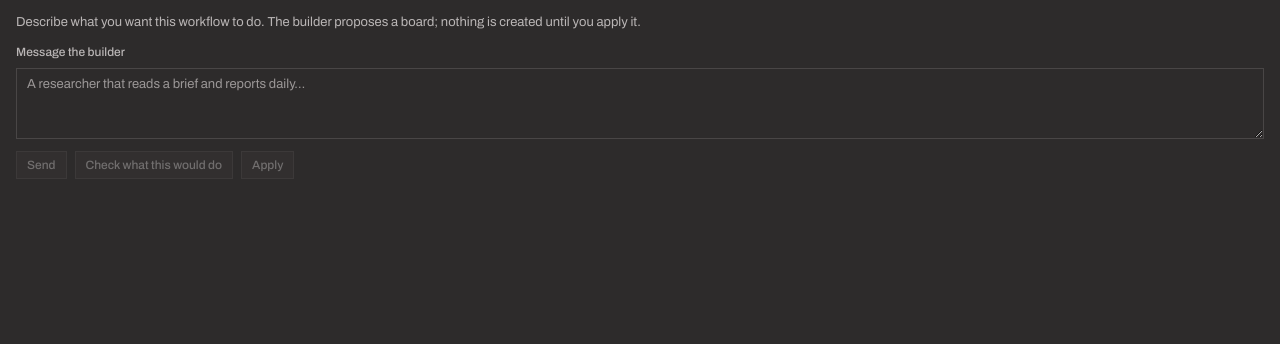
Test: BuilderPanel — plan, confirm, then apply › keeps the raw JSON out of the transcript
Type "a researcher" into the text box with test id "builder-input" at (640, 104), box [16,68,1264,139]
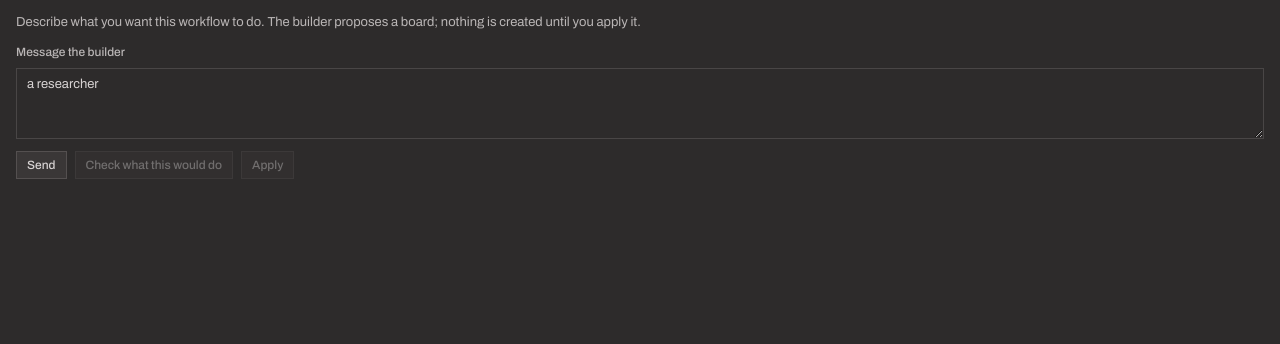
Click the button with test id "btn-builder-send" at (41, 165), box [16,151,66,179]
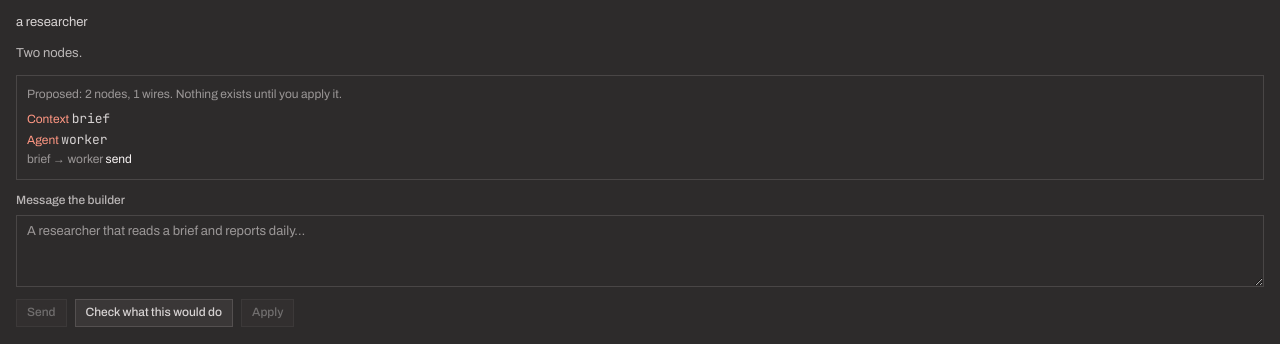
Check: the element with test id "builder-preview" is shown, box [16,75,1264,180]
Check: the text with test id "builder-turn-builder" reads "Two nodes.", box [16,46,82,60]
